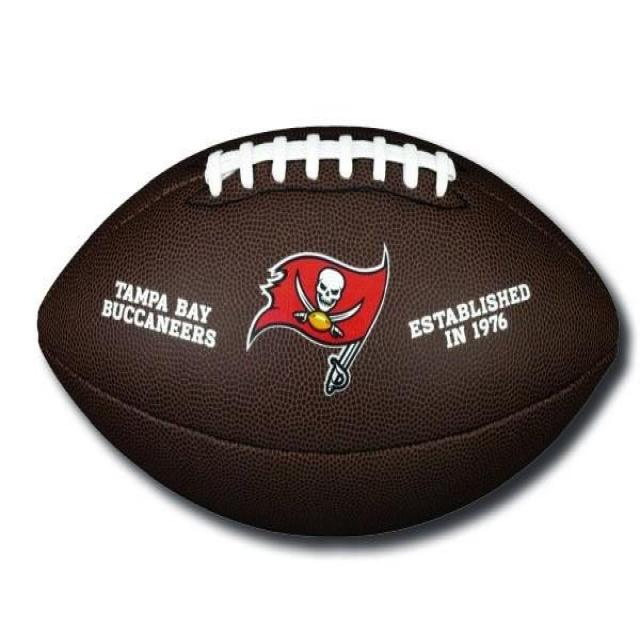ball: (29, 119, 629, 550)
